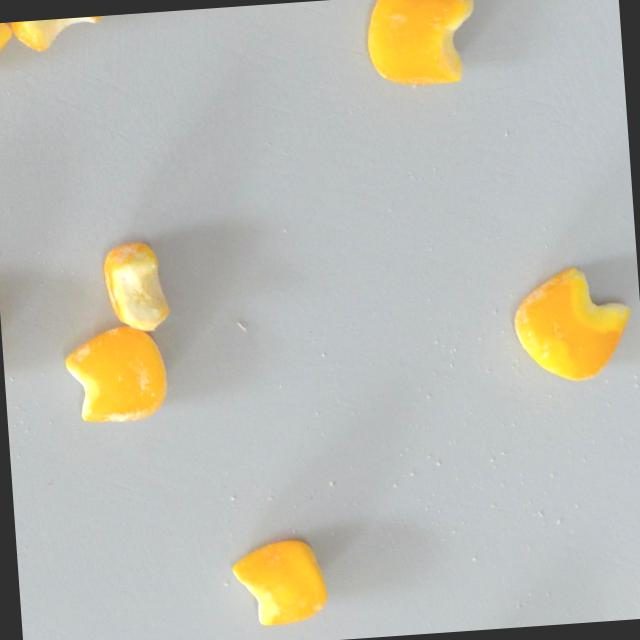no_canjicado: (364, 0, 479, 89), (229, 536, 329, 628)
pelicula: (510, 263, 634, 384), (62, 322, 169, 426), (101, 238, 170, 333), (4, 14, 110, 53), (0, 21, 15, 82)
